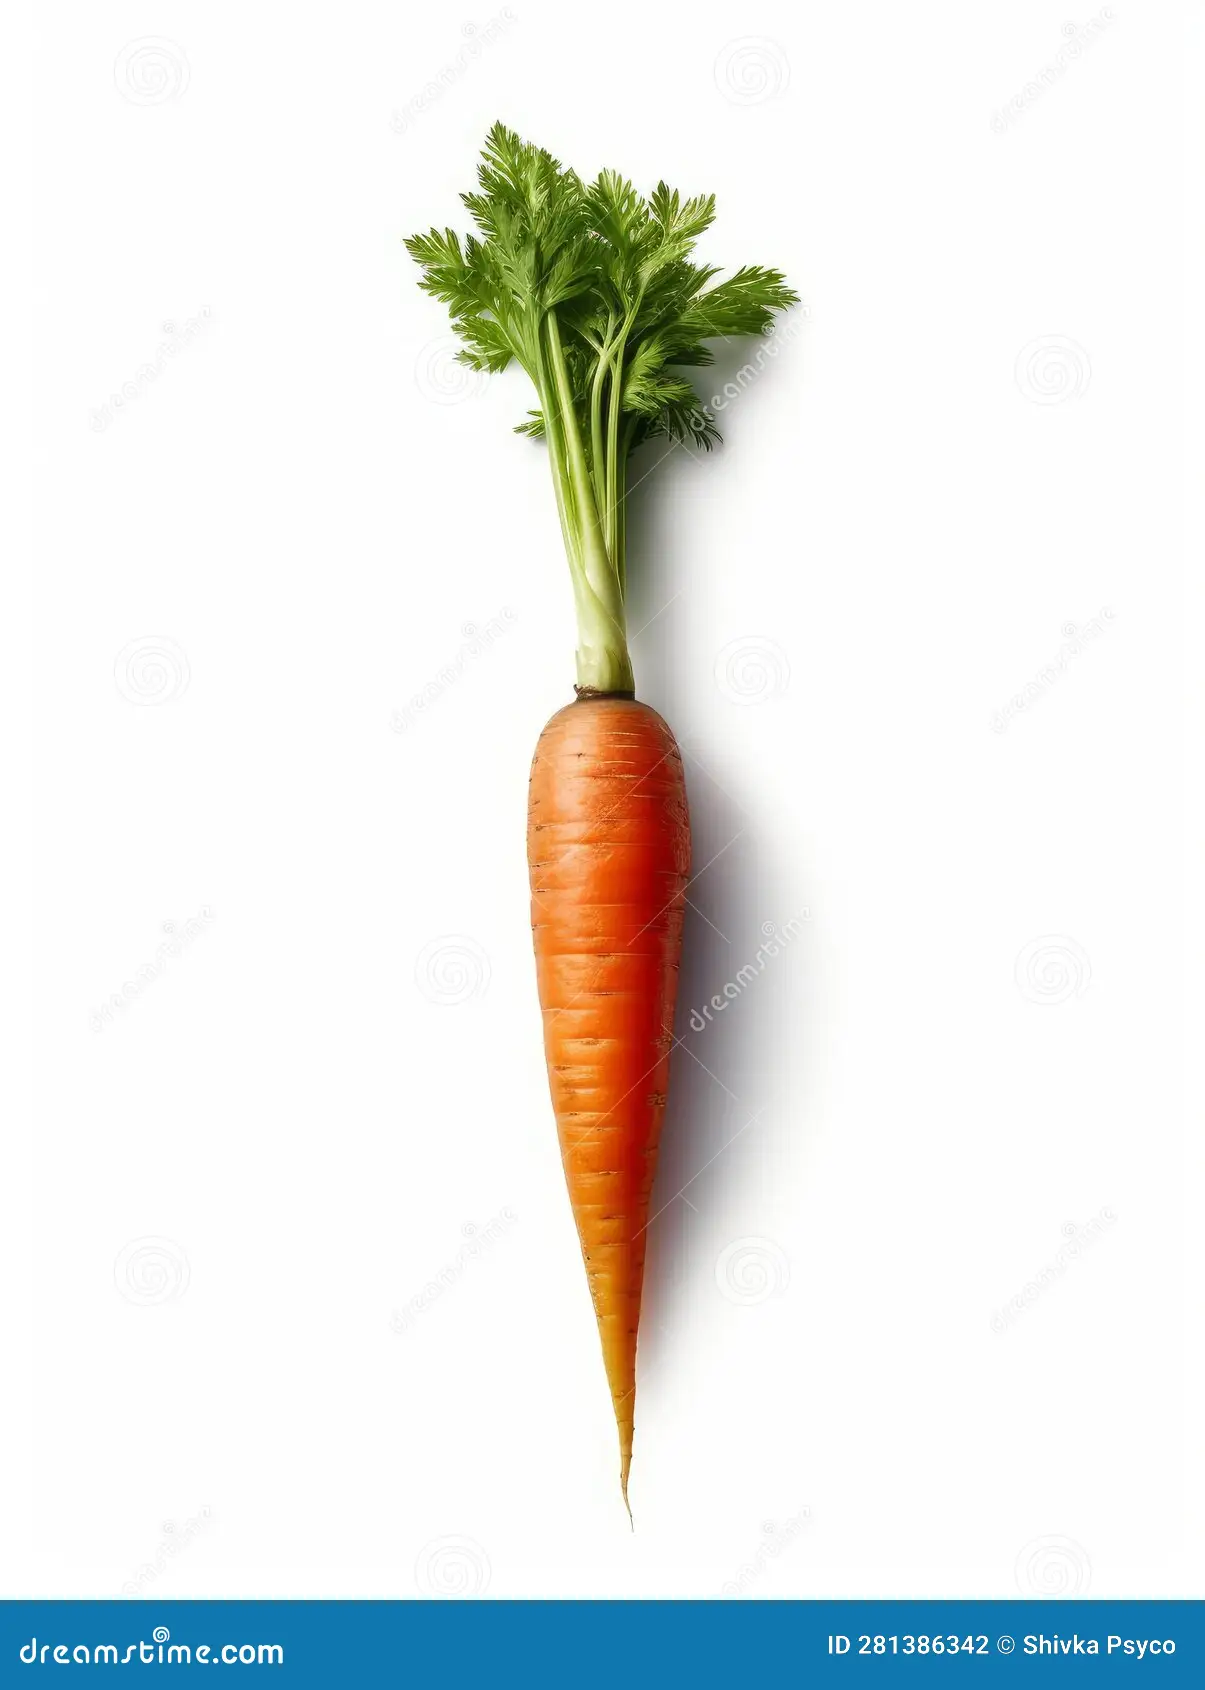carrot: (406, 111, 859, 1557)
